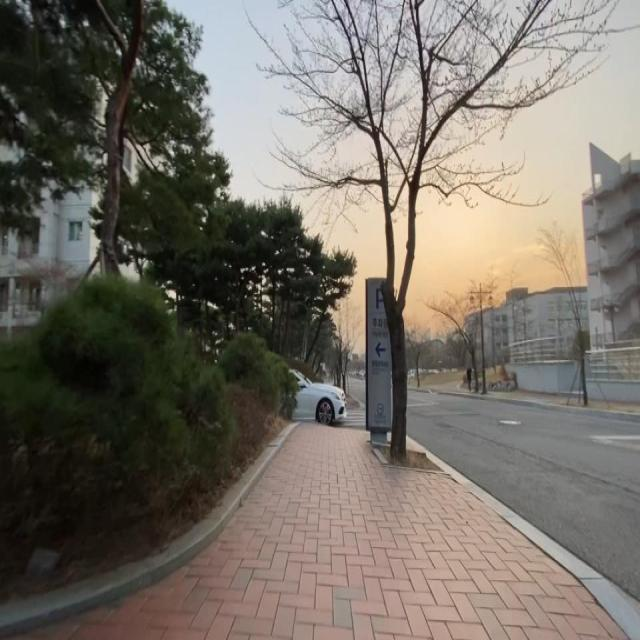sidewalk: (0, 424, 640, 640), (489, 391, 578, 405), (587, 399, 640, 415), (422, 382, 469, 392)
